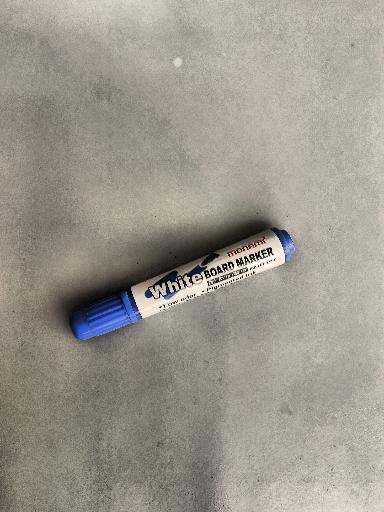marcador azul: (70, 228, 294, 339)
